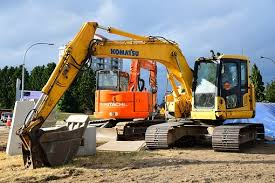excavator: (18, 22, 264, 172), (94, 57, 160, 142)
